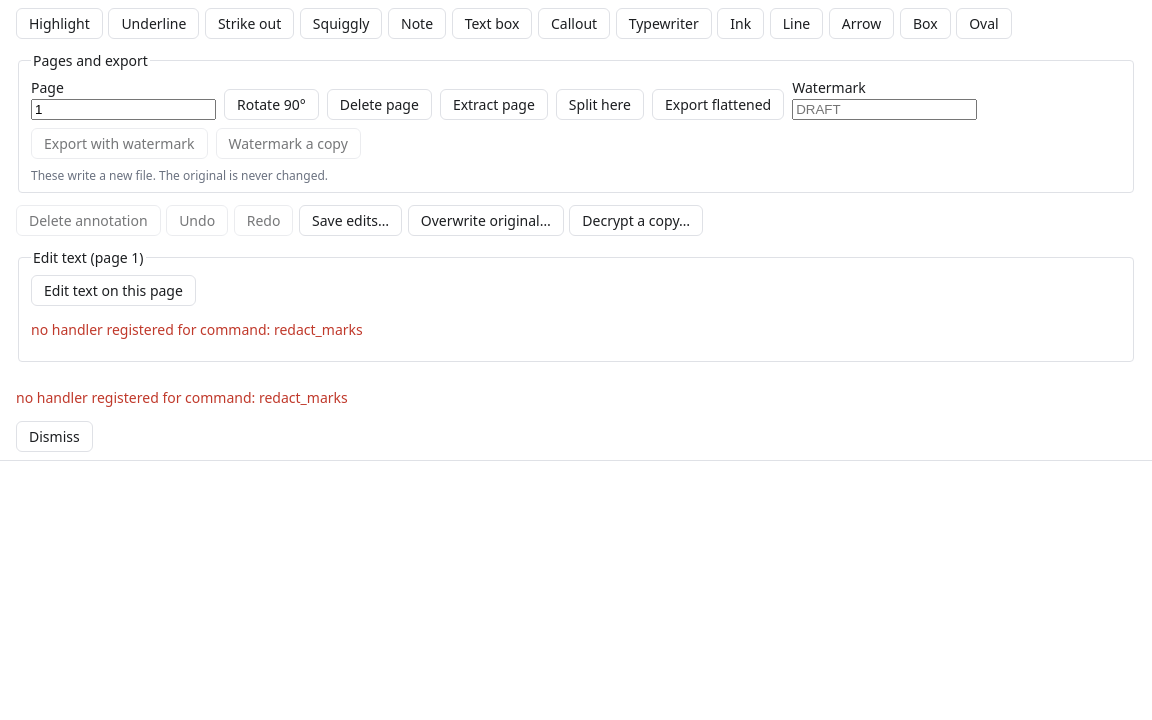
Test case: EditorPane: the save banner belongs to one document (D11) › does not carry a save from one document over to the next
The image size is (1152, 720).
Note: Produce a genuine save on the first document.
Click the button "Save edits…". click: coordinates (351, 221)
box: [299,205,402,236]
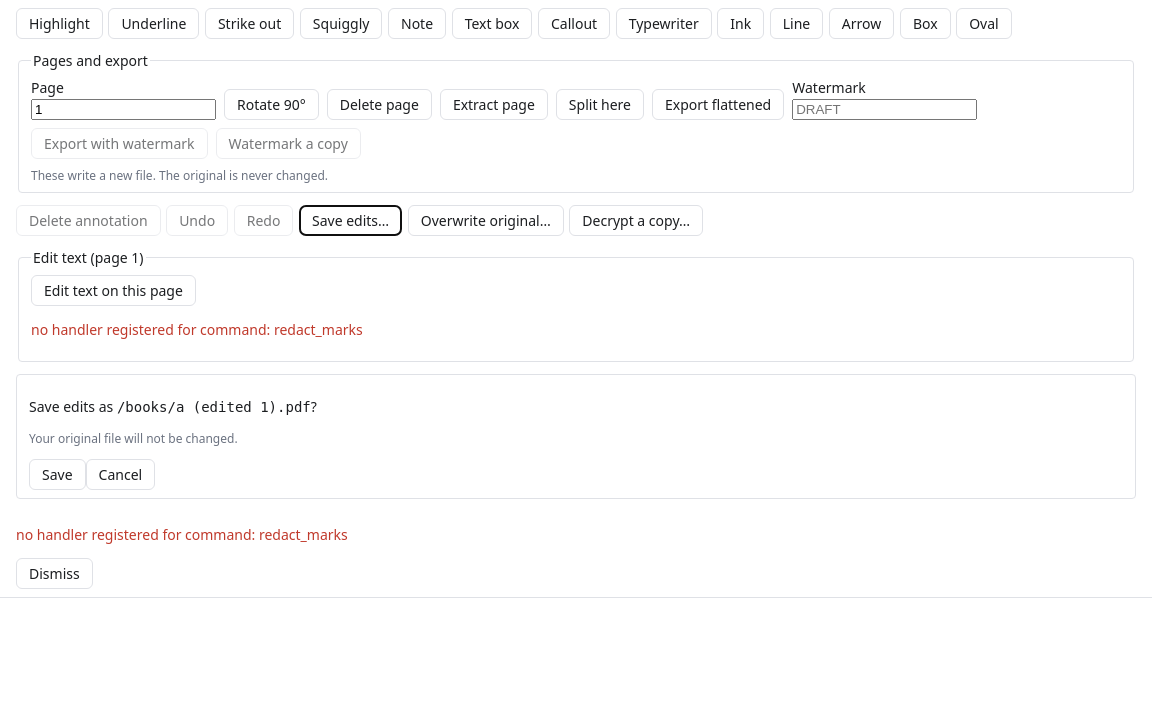
Click the button "Save". click: coordinates (57, 475)
box: [29,459,86,490]
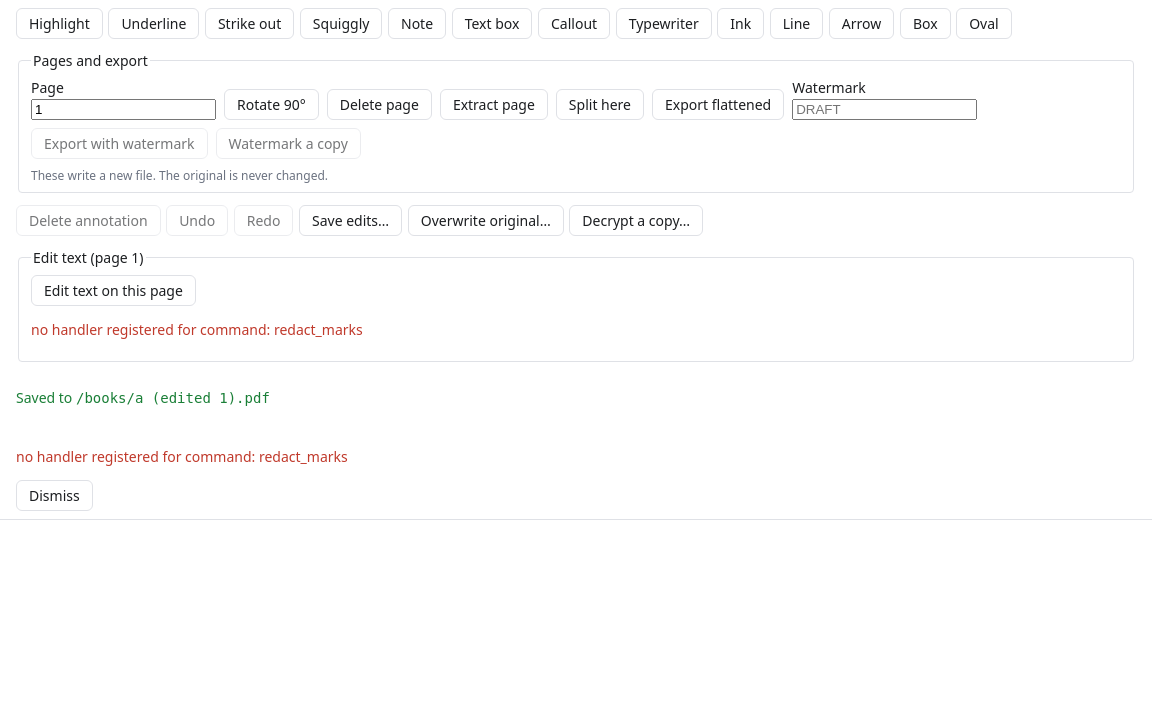
Expected: the text "Saved to /books/a (edited 1).pdf" is shown, [16,388,270,407]
